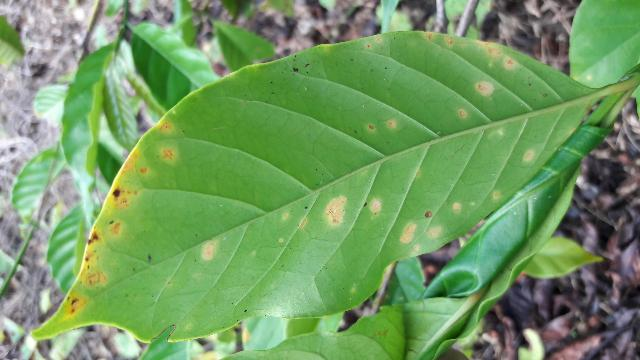rust_level_2: (29, 32, 592, 341)
